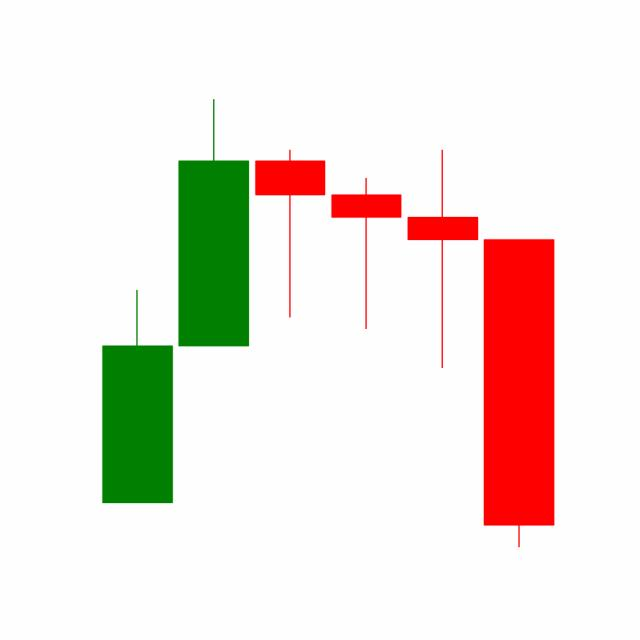Spinning Top: (403, 147, 481, 370)
